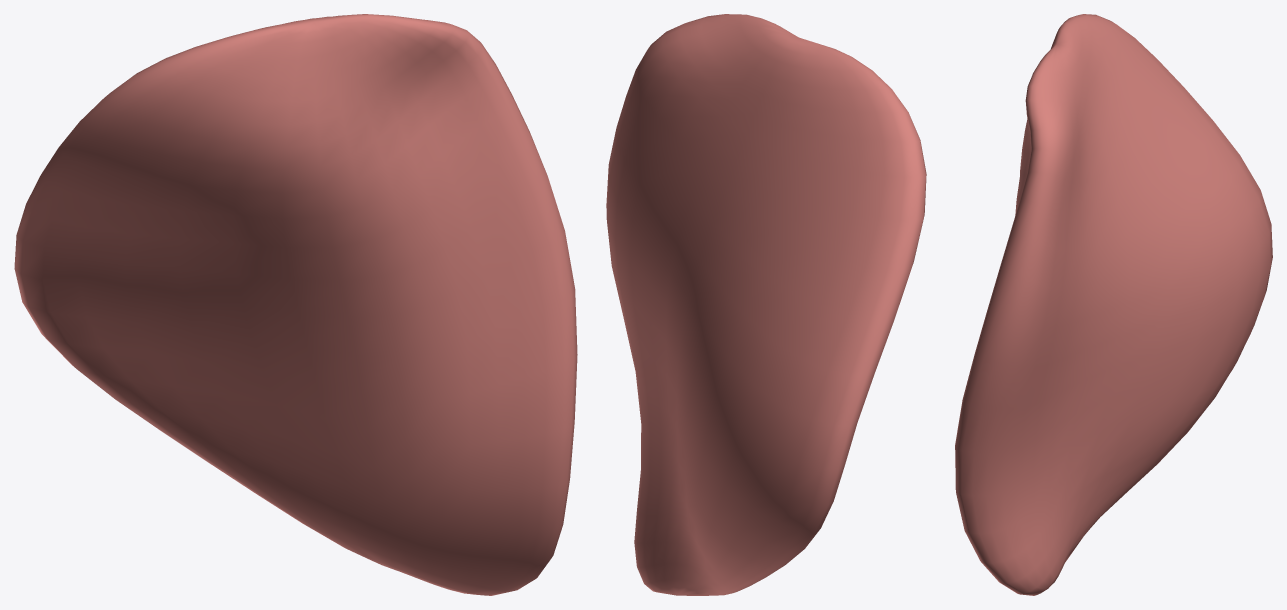
3 views of the same model, side by side, from view 1: azimuth 30°, elevation 25°; view 2: azimuth 150°, elevation 25°; view 3: azimuth 270°, elevation 25° (orthographic). The views are drawn at different scales.
Parts seen in each view (by area): view 1: ZA_a565b531ec9443fc; view 2: ZA_a565b531ec9443fc; view 3: ZA_a565b531ec9443fc.
Part boxes in pixels (<box>): ZA_a565b531ec9443fc: <box>14,14,577,595</box>; ZA_a565b531ec9443fc: <box>606,14,926,595</box>; ZA_a565b531ec9443fc: <box>955,14,1272,595</box>.
Bounding box in the file's own units: 0.0155 × 0.0223 × 0.0131.
